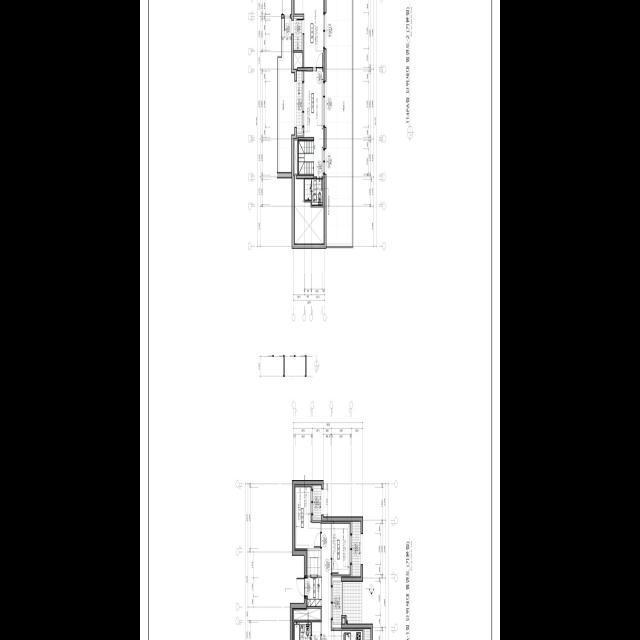background: (140, 0, 500, 640)
space_balconi: (343, 581, 361, 623), (352, 521, 361, 576), (333, 581, 341, 623), (297, 71, 302, 132), (313, 485, 321, 517), (294, 18, 302, 50)
space_bedroom: (294, 0, 323, 67), (295, 484, 320, 548), (332, 521, 350, 574)
space_front: (306, 576, 322, 606)
space_living_room: (304, 70, 323, 176), (322, 521, 332, 640)
space_other: (326, 0, 352, 243), (279, 18, 295, 172), (294, 178, 324, 243), (298, 140, 314, 174), (307, 550, 321, 575), (294, 608, 321, 619), (312, 622, 321, 640), (294, 52, 302, 68), (283, 0, 291, 15), (294, 138, 297, 174), (343, 618, 345, 623)
space_toilet: (305, 179, 322, 204), (294, 622, 311, 640)
